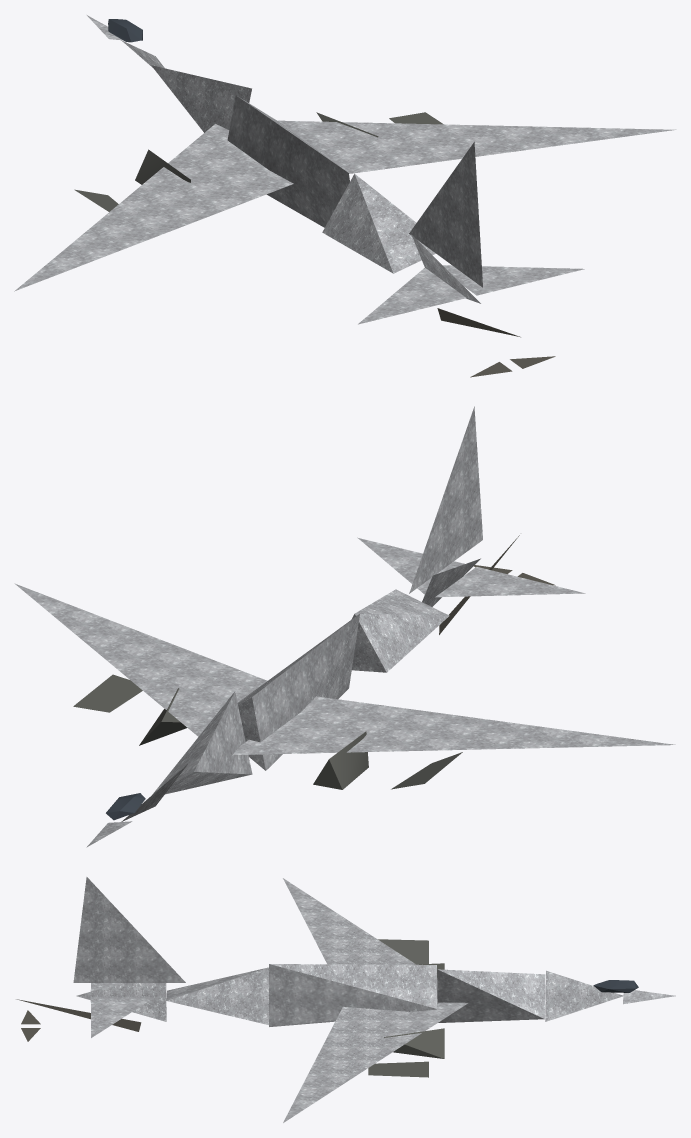
Rendered from tkr_e2_us_tanker_LOD2.glb.
3 renders of one model, top to bottom at view 1: azimuth 30°, elevation 25°; view 2: azimuth 150°, elevation 25°; view 3: azimuth 270°, elevation 25°, orthographic. The views are drawn at different scales.
Parts seen in each view (by area): view 1: tkr_e2_us_tanker_LOD2_body, tkr_e2_us_tanker_LOD2_gun, tkr_e2_us_tanker_LOD2_deck, tkr_e2_us_tanker_LOD2_glass; view 2: tkr_e2_us_tanker_LOD2_body, tkr_e2_us_tanker_LOD2_gun; view 3: tkr_e2_us_tanker_LOD2_body, tkr_e2_us_tanker_LOD2_gun, tkr_e2_us_tanker_LOD2_deck, tkr_e2_us_tanker_LOD2_glass.
Boxes of the visible parts, x1,y1,x2,y2 form: tkr_e2_us_tanker_LOD2_body: (14, 15, 676, 324); tkr_e2_us_tanker_LOD2_gun: (74, 112, 443, 211); tkr_e2_us_tanker_LOD2_deck: (437, 308, 555, 377); tkr_e2_us_tanker_LOD2_glass: (108, 19, 142, 42); tkr_e2_us_tanker_LOD2_body: (14, 406, 675, 847); tkr_e2_us_tanker_LOD2_gun: (73, 674, 462, 789); tkr_e2_us_tanker_LOD2_body: (73, 877, 675, 1122); tkr_e2_us_tanker_LOD2_gun: (368, 939, 444, 1077); tkr_e2_us_tanker_LOD2_deck: (16, 999, 141, 1041); tkr_e2_us_tanker_LOD2_glass: (593, 980, 638, 992).
Bounding box in the file's own units: 40.25 × 11.87 × 45.88.
Materials: 4 (1 with a texture image).
